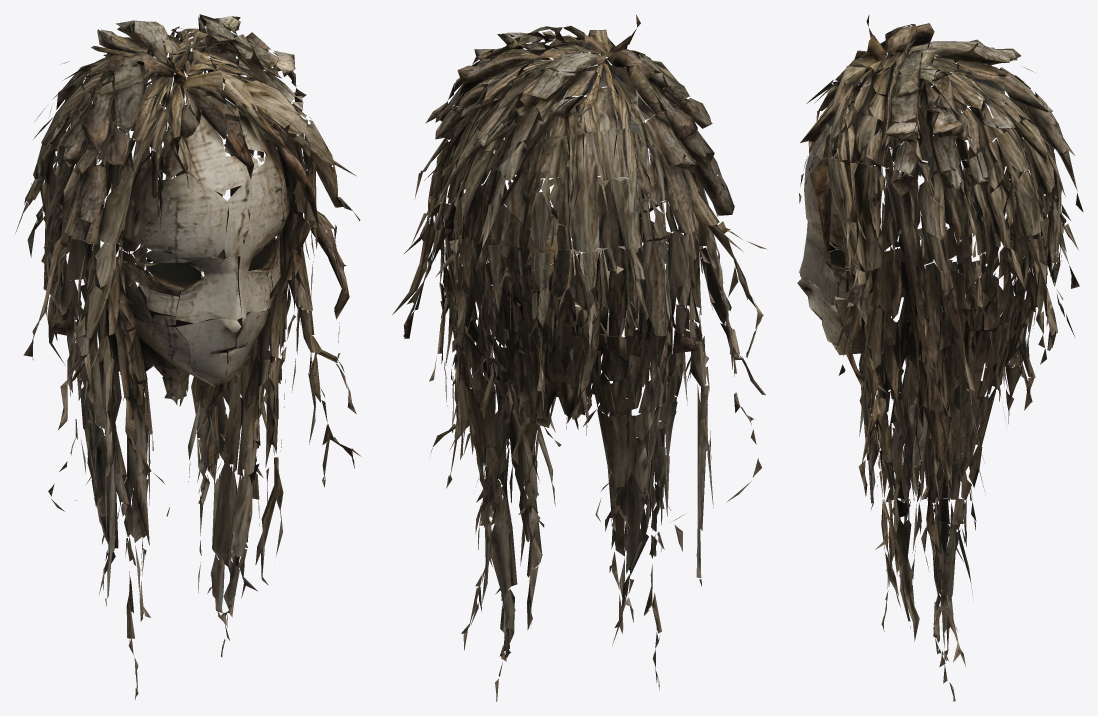
File: tree_face.fbx
The picture shows the model from 3 angles, left to right: view 1: azimuth 30°, elevation 25°; view 2: azimuth 150°, elevation 25°; view 3: azimuth 270°, elevation 25°; orthographic projection. The views are drawn at different scales.
Parts seen in each view (by area): view 1: Part; view 2: Part; view 3: Part.
Part boxes in pixels (left/top/right/bottom): Part: left=15, top=14, right=361, bottom=699; Part: left=392, top=14, right=767, bottom=701; Part: left=797, top=15, right=1083, bottom=701.
Bounding box in the file's own units: 1.58 × 3.08 × 1.24.
